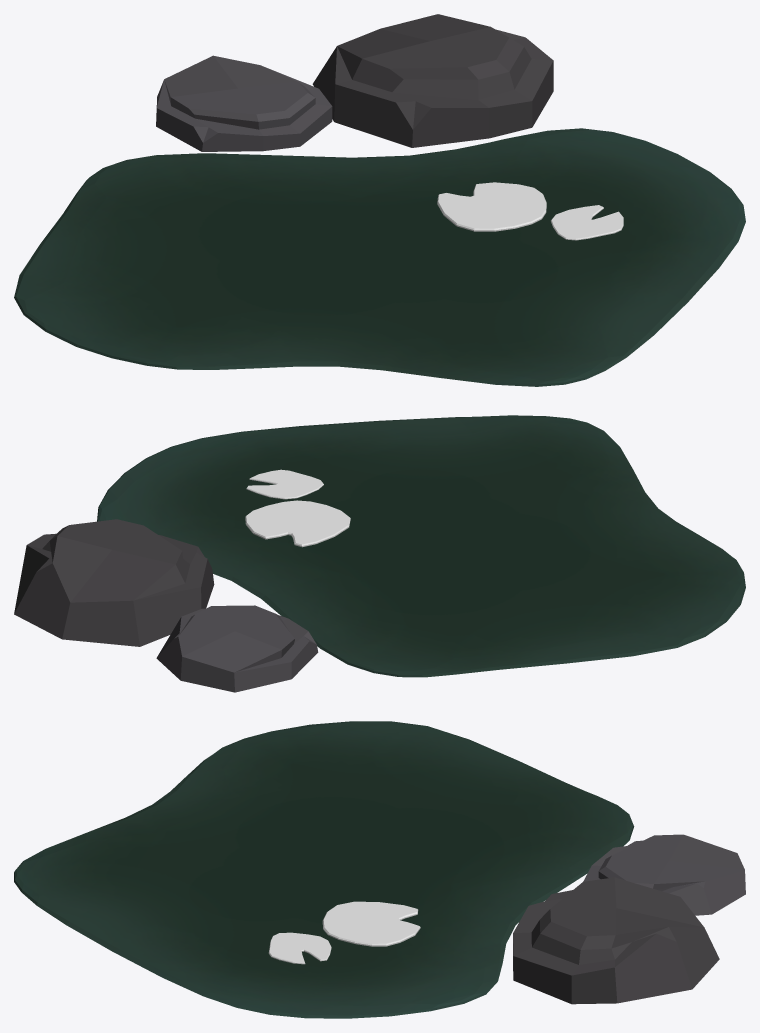
The model's file is waterlake_noleaf_mini.fbx.
3 renders of one model, top to bottom at view 1: azimuth 30°, elevation 25°; view 2: azimuth 150°, elevation 25°; view 3: azimuth 270°, elevation 25°, orthographic. The views are drawn at different scales.
Visible parts, largest first — view 1: stone03.006; view 2: stone03.006; view 3: stone03.006.
Boxes of the visible parts, box(x1,y1,x2,y2) form: stone03.006: box(14, 14, 745, 386); stone03.006: box(14, 415, 745, 692); stone03.006: box(14, 721, 745, 1018).
Size of the model in its own units: 1460 by 119 by 1525.
